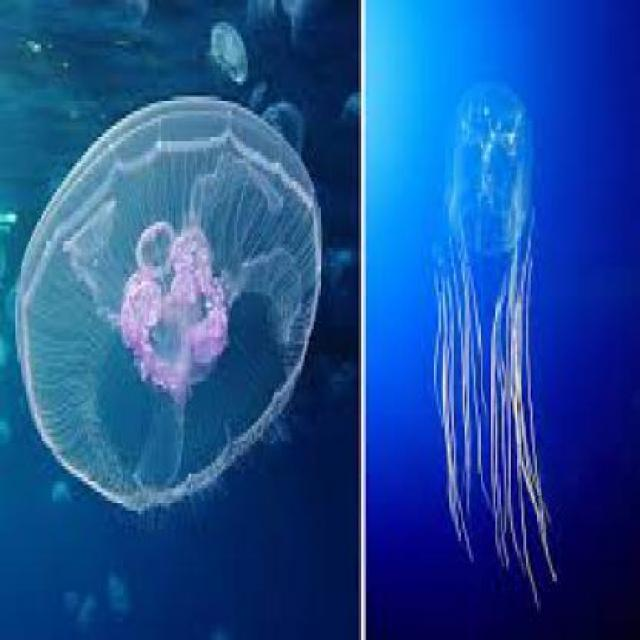Jellyfish: (4, 84, 320, 510), (429, 74, 566, 611)
